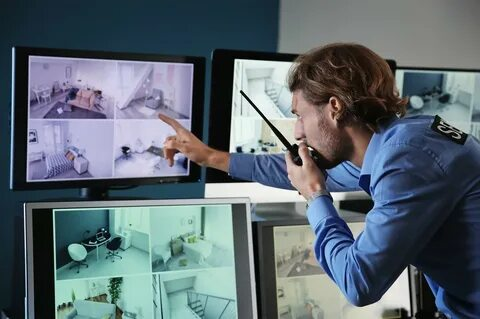awake: (272, 41, 479, 318)
